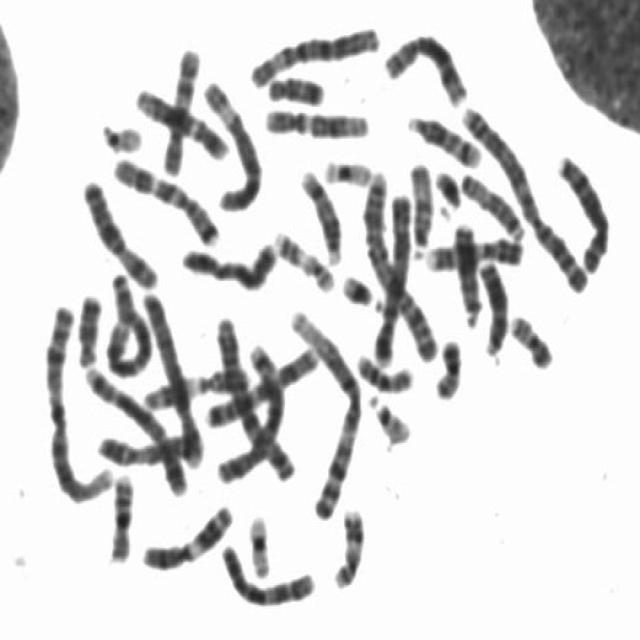A1: (284, 299, 365, 521), (39, 296, 117, 506)
A2: (456, 95, 593, 296), (360, 168, 441, 364)
A3: (210, 312, 294, 484), (100, 266, 154, 379)
B4: (138, 284, 208, 469), (367, 186, 414, 368)
B5: (78, 358, 190, 497), (218, 347, 282, 482)
C10: (215, 536, 318, 611), (156, 38, 203, 179)
C11: (136, 496, 236, 573), (136, 360, 252, 412)
C12: (129, 79, 230, 162), (258, 100, 372, 140)
C6: (243, 17, 382, 90), (197, 75, 266, 214)
C7: (108, 148, 224, 248), (200, 339, 323, 431)
C8: (378, 24, 472, 109), (552, 145, 613, 275)
C9: (94, 425, 206, 469), (419, 229, 526, 274)
D13: (474, 254, 510, 358), (450, 215, 482, 328)
D14: (295, 162, 344, 266), (402, 107, 484, 168)
D15: (454, 165, 527, 241), (404, 154, 435, 257)
E16: (105, 466, 136, 564), (352, 347, 416, 394)
E17: (268, 222, 338, 294), (328, 501, 367, 591)
E18: (262, 67, 328, 107), (71, 286, 103, 368)
F19: (242, 506, 274, 580), (318, 151, 375, 188)
F20: (505, 306, 555, 371), (430, 331, 464, 402)
G21: (336, 266, 379, 310), (430, 162, 464, 212)
G22: (364, 388, 414, 446), (96, 115, 145, 154)
X: (76, 173, 161, 290), (177, 230, 281, 292)
